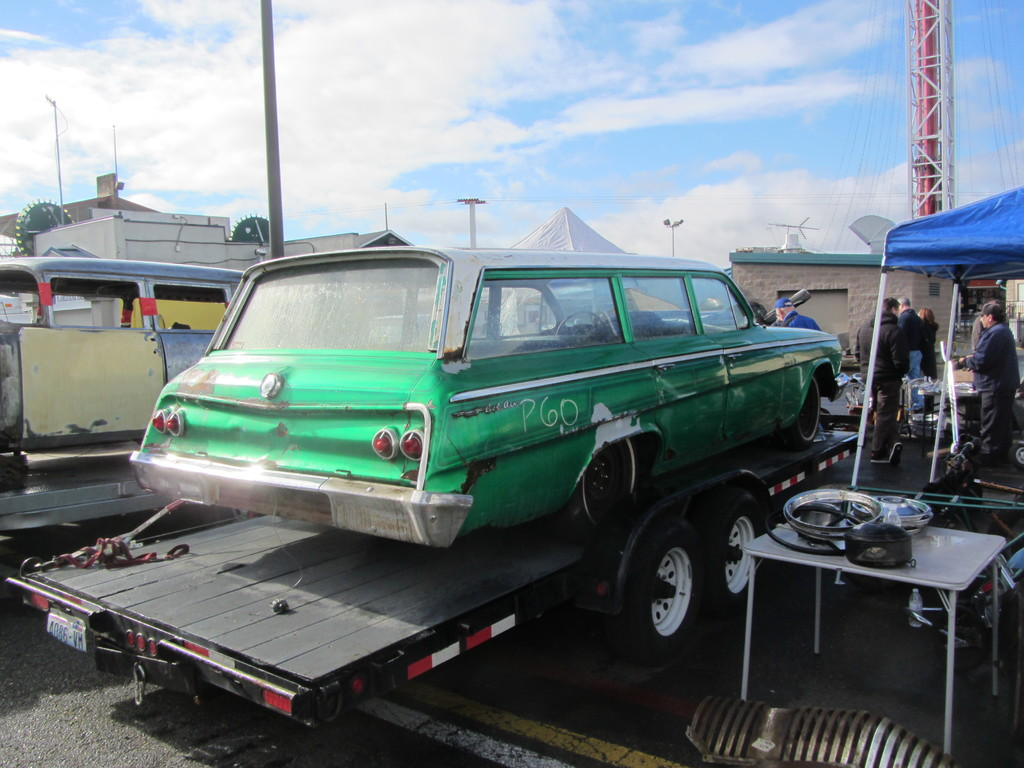Car: (134, 245, 851, 536), (0, 256, 265, 460)
